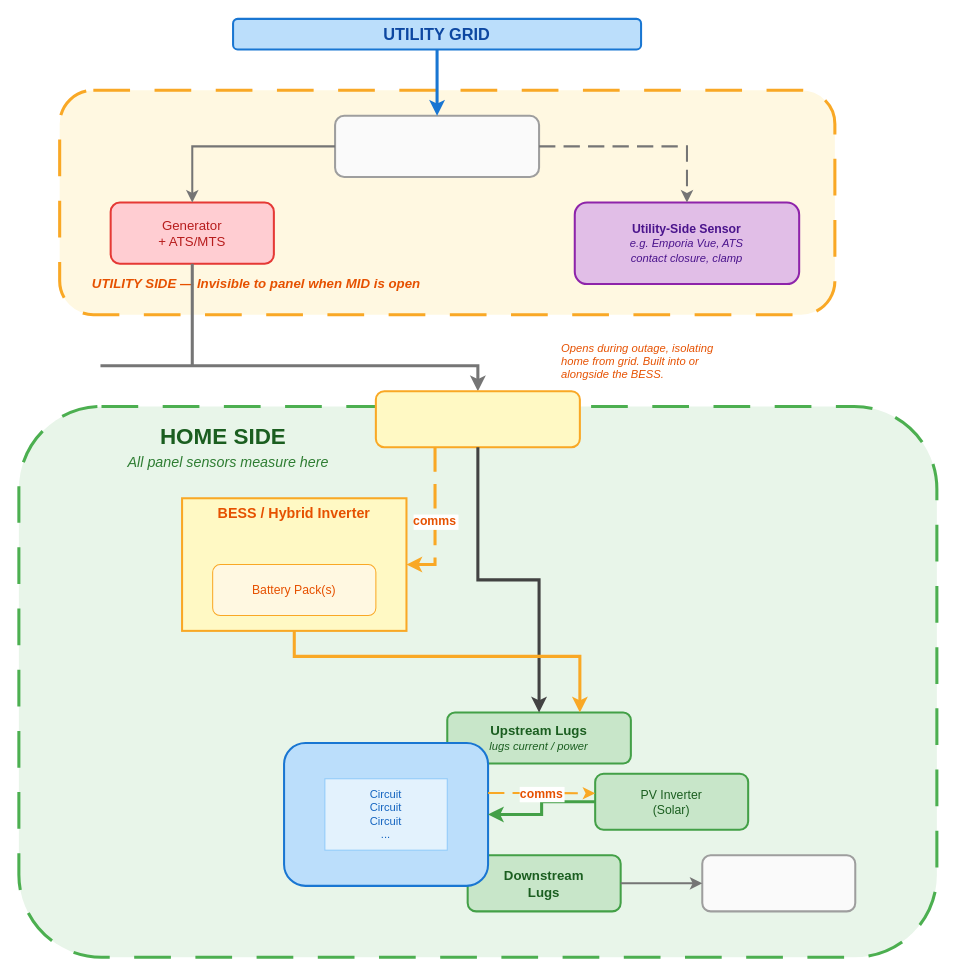
The diagram is 956 pixels wide and 976 high, and some of its shapes have lost their labels. The box of each missing label's shape, as (x1, y1, x2, y2) in pixels:
MID Microgrid Interconnect Device: (374, 390, 580, 448)
SPAN Panel: (283, 742, 489, 886)
Sub-Panel or Second Panel: (701, 854, 856, 912)
Utility Meter / Service Entrance: (334, 114, 540, 177)
